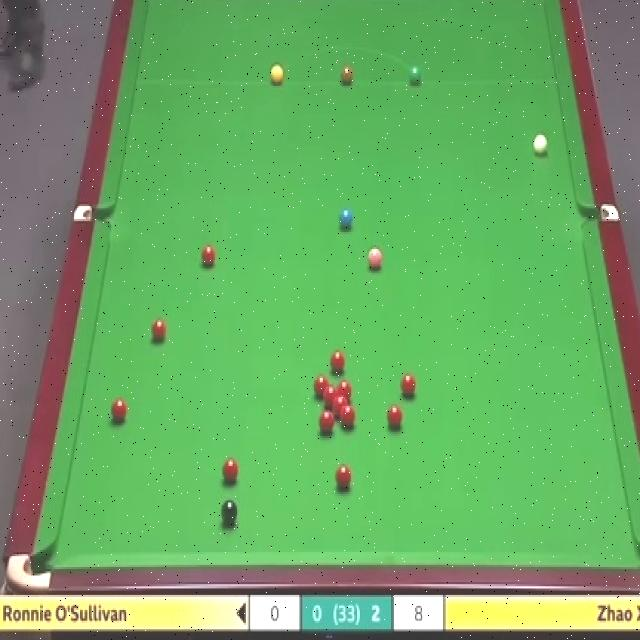black-ball: (221, 498, 240, 524)
blue-ball: (339, 206, 353, 233)
brown-ball: (339, 64, 354, 85)
green-ball: (408, 65, 422, 85)
pink-ball: (367, 249, 384, 272)
red-ball: (148, 315, 170, 344), (312, 372, 331, 400), (108, 395, 127, 423), (335, 464, 353, 492), (398, 373, 418, 397), (386, 404, 404, 430), (222, 457, 240, 483), (328, 350, 348, 373), (318, 408, 335, 434), (339, 407, 357, 430), (337, 381, 353, 406), (323, 386, 340, 409), (332, 397, 348, 415), (201, 247, 216, 266)
white-ball: (532, 131, 548, 159)
yellow-ball: (270, 64, 284, 85)
